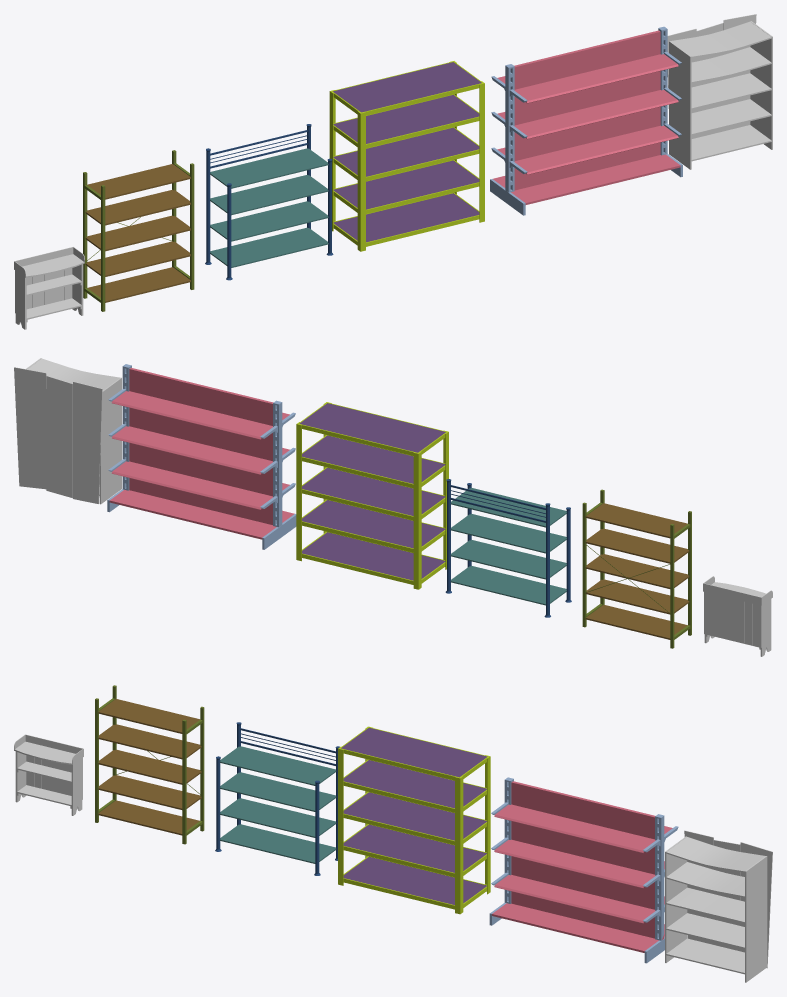
Rendered from Garage Props2.fbx.
3 views of the same model, one above another, from view 1: azimuth 30°, elevation 25°; view 2: azimuth 150°, elevation 25°; view 3: azimuth 330°, elevation 25° (orthographic).
Visible parts, largest first — view 1: Cube.008, Plane.007, Cube.007, Plane.002, Plane.001, 19th_century_bucket_bench_LOD0; view 2: Cube.008, Plane.007, Cube.007, Plane.001, Plane.002, 19th_century_bucket_bench_LOD0; view 3: Cube.008, Plane.007, Cube.007, Plane.002, Plane.001, 19th_century_bucket_bench_LOD0.
Boxes of the visible parts, left/top/right/bottom form: Cube.008: left=490, top=26, right=682, bottom=215; Plane.007: left=329, top=61, right=484, bottom=251; Cube.007: left=667, top=14, right=772, bottom=169; Plane.002: left=205, top=124, right=333, bottom=280; Plane.001: left=83, top=150, right=194, bottom=311; 19th_century_bucket_bench_LOD0: left=14, top=247, right=84, bottom=329; Cube.008: left=107, top=364, right=296, bottom=549; Plane.007: left=296, top=402, right=448, bottom=589; Cube.007: left=14, top=358, right=121, bottom=504; Plane.001: left=582, top=489, right=691, bottom=648; Plane.002: left=445, top=479, right=571, bottom=617; 19th_century_bucket_bench_LOD0: left=703, top=576, right=772, bottom=656; Cube.008: left=489, top=777, right=678, bottom=963; Plane.007: left=338, top=726, right=490, bottom=914; Cube.007: left=665, top=830, right=772, bottom=982; Plane.002: left=215, top=722, right=339, bottom=875; Plane.001: left=95, top=685, right=204, bottom=844; 19th_century_bucket_bench_LOD0: left=14, top=734, right=83, bottom=815.
Bounding box in the file's own units: 15.36 × 2.75 × 1.25.
